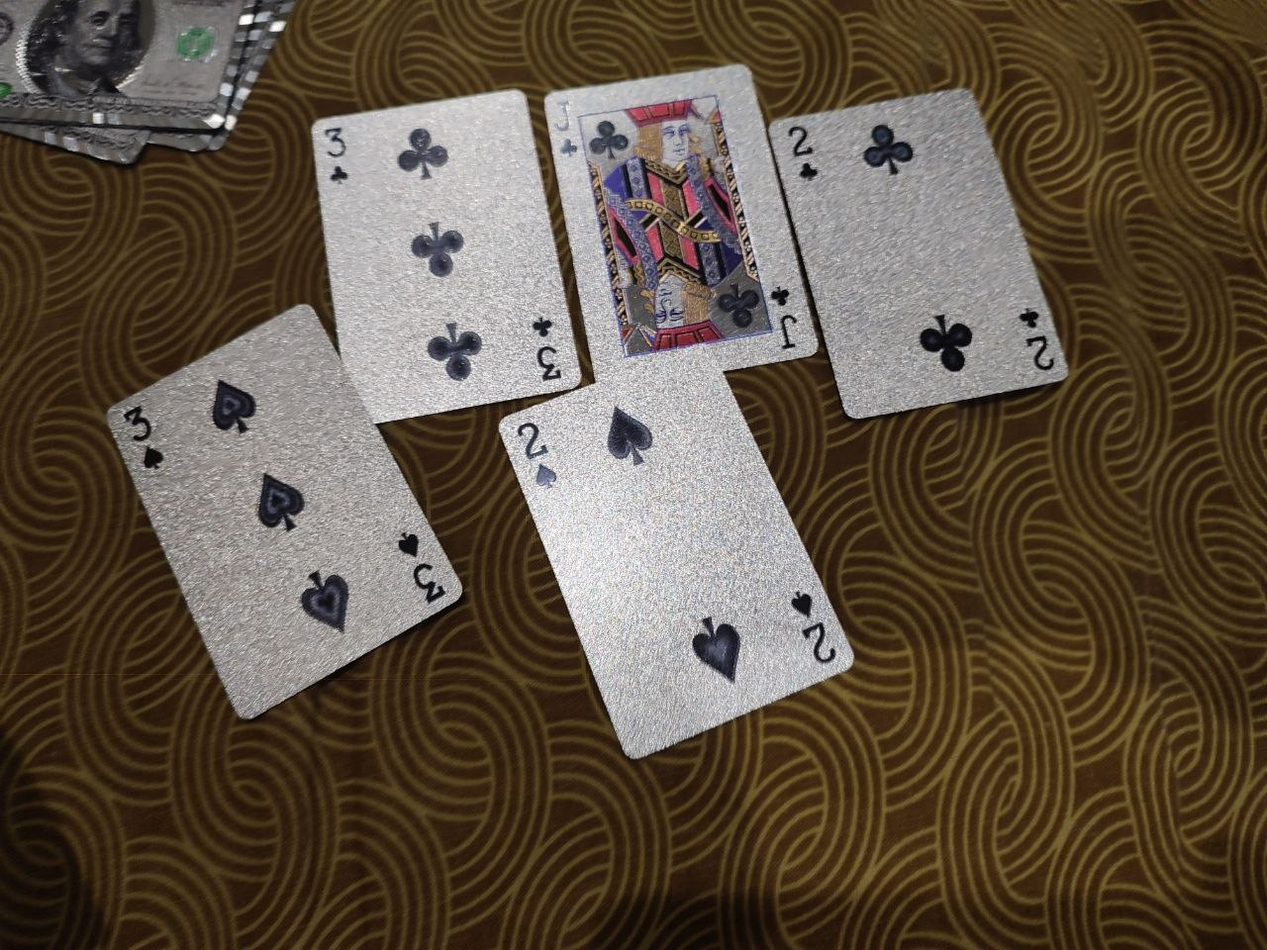2C: (768, 85, 1073, 420)
2S: (498, 345, 859, 760)
3C: (310, 88, 585, 423)
3S: (102, 300, 466, 722)
JC: (543, 60, 821, 384)
